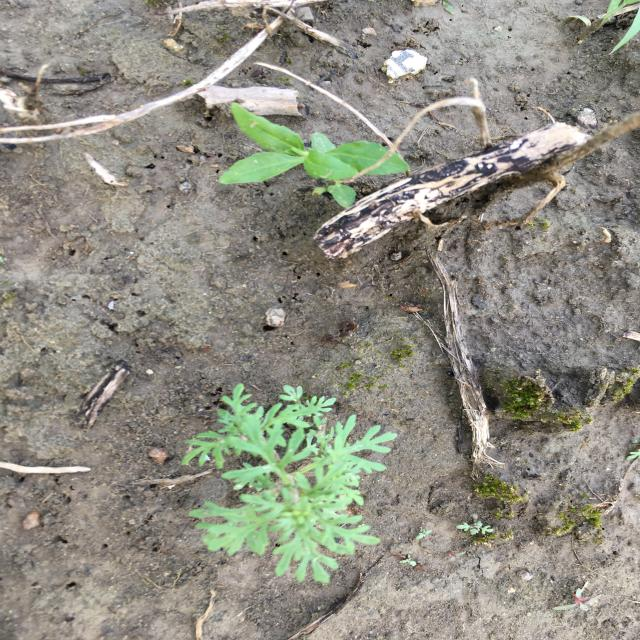Eclipta: (216, 101, 414, 211)
Ragweed: (179, 380, 402, 587)
